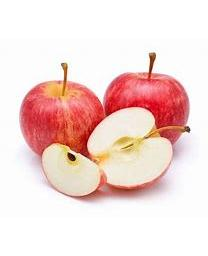apple: (18, 63, 105, 160), (88, 108, 190, 189), (104, 53, 190, 149), (42, 144, 106, 197)
